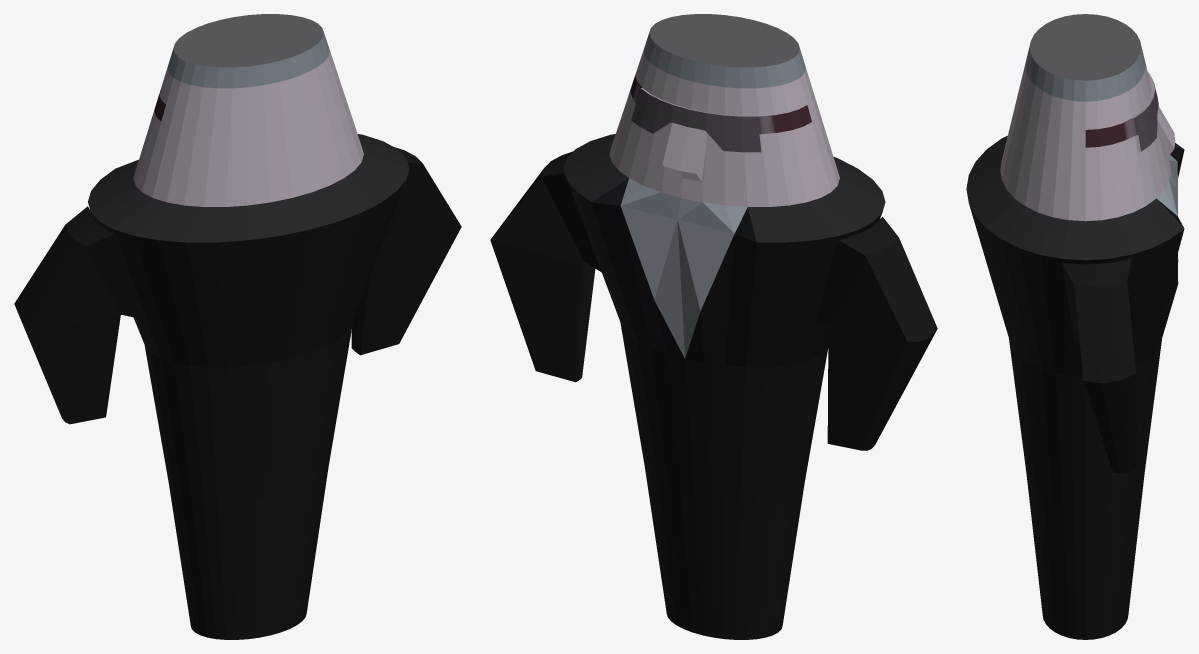
File: GuardFBX.fbx
The picture shows the model from 3 angles, left to right: view 1: azimuth 30°, elevation 25°; view 2: azimuth 150°, elevation 25°; view 3: azimuth 270°, elevation 25°; orthographic projection. The views are drawn at different scales.
Visible parts, largest first — view 1: Guard, HandL, HandR; view 2: Guard, HandL, HandR; view 3: Guard, HandR.
Boxes of the visible parts, x1,y1,x2,y2 form: Guard: [88, 14, 409, 639]; HandL: [14, 206, 142, 424]; HandR: [351, 147, 461, 355]; Guard: [564, 14, 885, 639]; HandL: [814, 217, 937, 450]; HandR: [490, 151, 601, 382]; Guard: [966, 14, 1184, 639]; HandR: [1062, 259, 1136, 473].
Size of the model in its own units: 1.39 by 0.6304 by 1.81.
